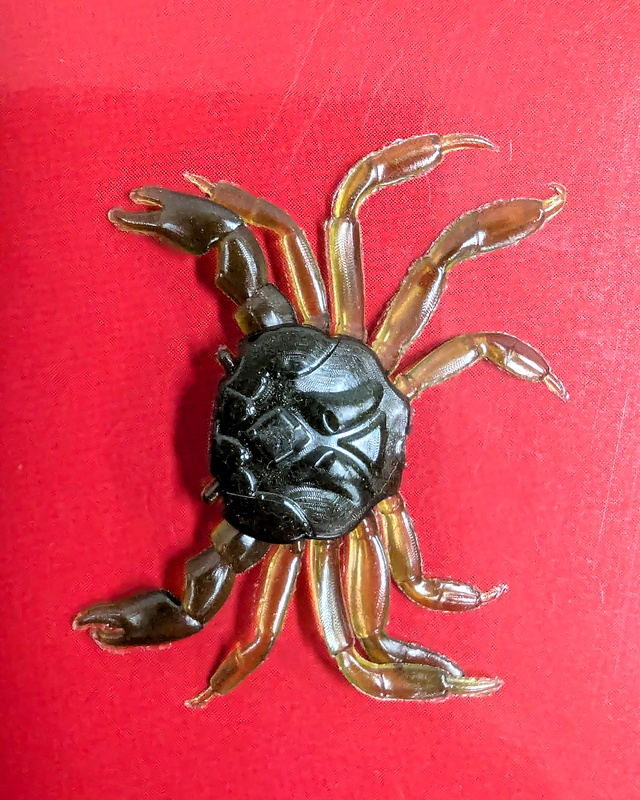crab2: (70, 130, 571, 710)
